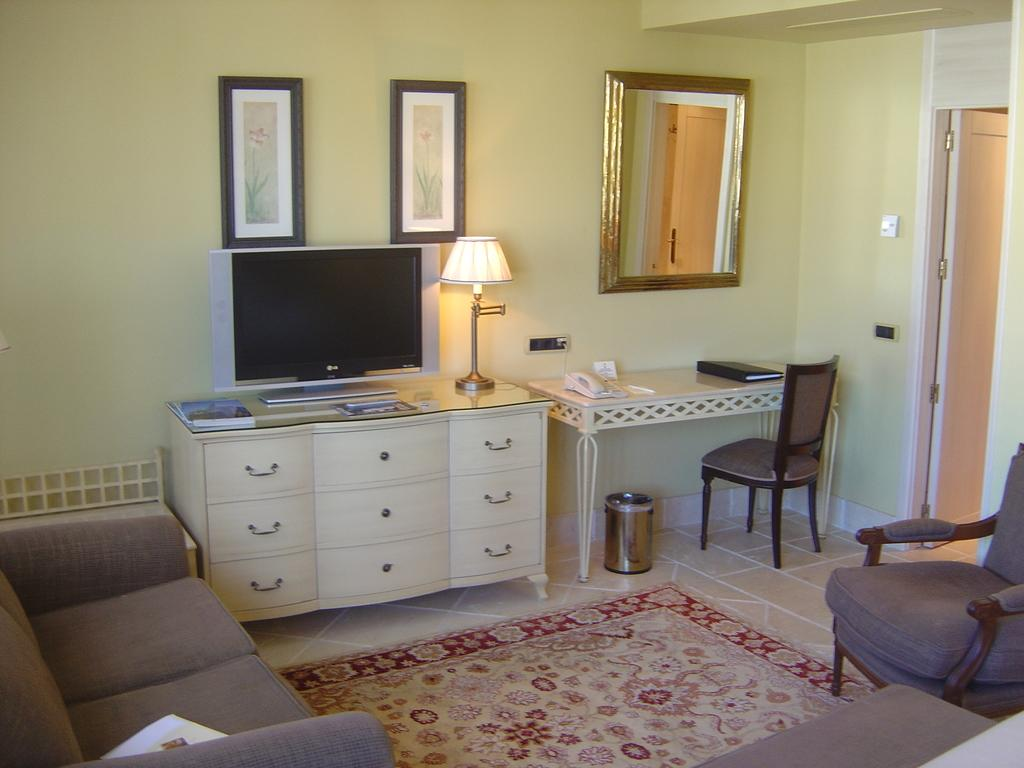cabinet_door: (326, 431, 456, 481), (210, 447, 310, 493), (220, 558, 312, 607), (323, 552, 443, 588), (458, 422, 544, 472), (330, 496, 446, 531), (468, 524, 545, 570), (224, 506, 318, 542), (459, 481, 535, 515)
handle: (244, 458, 281, 481), (244, 575, 286, 593), (244, 520, 285, 538), (484, 482, 510, 509), (484, 544, 518, 563), (482, 438, 516, 456), (377, 499, 395, 525), (376, 557, 398, 578), (377, 447, 396, 467)
